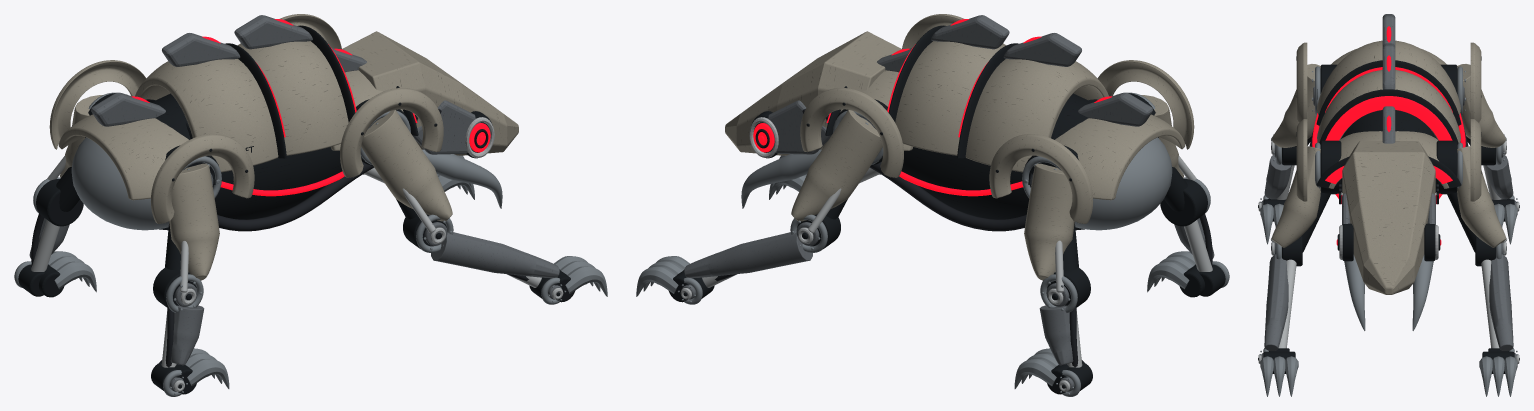
The model's file is crawler.glb.
3 views of the same model, side by side, from view 1: azimuth 30°, elevation 25°; view 2: azimuth 150°, elevation 25°; view 3: azimuth 270°, elevation 25° (orthographic). The views are drawn at different scales.
Parts seen in each view (by area): view 1: RIFT_Crawler_V2.001_CONCEPT2_ceramic.002, RIFT_Crawler_V2.001_CONCEPT2_dark.002, PredatorSkull.001_CONCEPT2_ceramic.002, RIFT_Crawler_V2.001_CONCEPT2_armor.002, Front_near.002_CONCEPT2_ceramic.002, RIFT_Crawler_V2.001_CONCEPT2_steel.002, Rear_near.002_CONCEPT2_ceramic.002, Shin.001_CONCEPT2_armor.002, RIFT_Crawler_V2.001_CONCEPT2_rubber.002, Shin_CONCEPT2_armor.002, PredatorSkull.001_CONCEPT2_steel.002, PredatorSkull.001_CONCEPT2_armor.002 (+13 smaller); view 2: RIFT_Crawler_V2.001_CONCEPT2_ceramic.002, RIFT_Crawler_V2.001_CONCEPT2_dark.002, PredatorSkull.001_CONCEPT2_ceramic.002, RIFT_Crawler_V2.001_CONCEPT2_armor.002, Front_far.002_CONCEPT2_ceramic.002, RIFT_Crawler_V2.001_CONCEPT2_steel.002, Rear_far.002_CONCEPT2_ceramic.002, Shin.003_CONCEPT2_armor.002, RIFT_Crawler_V2.001_CONCEPT2_rubber.002, Shin.002_CONCEPT2_armor.002, PredatorSkull.001_CONCEPT2_steel.002, PredatorSkull.001_CONCEPT2_armor.002 (+13 smaller); view 3: PredatorSkull.001_CONCEPT2_ceramic.002, RIFT_Crawler_V2.001_CONCEPT2_ceramic.002, RIFT_Crawler_V2.001_CONCEPT2_dark.002, RIFT_Crawler_V2.001_CONCEPT2_red.002, Front_far.002_CONCEPT2_ceramic.002, Front_near.002_CONCEPT2_ceramic.002, Shin.003_CONCEPT2_armor.002, Shin.001_CONCEPT2_armor.002, PredatorSkull.001_CONCEPT2_steel.002, RIFT_Crawler_V2.001_CONCEPT2_armor.002, Rear_far.002_CONCEPT2_ceramic.002, Rear_near.002_CONCEPT2_ceramic.002 (+23 smaller).
Boxes of the visible parts, x1,y1,x2,y2 form: RIFT_Crawler_V2.001_CONCEPT2_ceramic.002: [49, 14, 443, 223]; RIFT_Crawler_V2.001_CONCEPT2_dark.002: [146, 25, 437, 230]; PredatorSkull.001_CONCEPT2_ceramic.002: [342, 31, 518, 155]; RIFT_Crawler_V2.001_CONCEPT2_armor.002: [91, 15, 366, 126]; Front_near.002_CONCEPT2_ceramic.002: [361, 110, 452, 221]; RIFT_Crawler_V2.001_CONCEPT2_steel.002: [71, 137, 168, 230]; Rear_near.002_CONCEPT2_ceramic.002: [169, 163, 219, 280]; Shin.001_CONCEPT2_armor.002: [424, 222, 559, 278]; RIFT_Crawler_V2.001_CONCEPT2_rubber.002: [217, 162, 374, 231]; Shin_CONCEPT2_armor.002: [170, 283, 204, 365]; PredatorSkull.001_CONCEPT2_steel.002: [422, 149, 502, 208]; PredatorSkull.001_CONCEPT2_armor.002: [412, 100, 480, 154]; RIFT_Crawler_V2.001_CONCEPT2_ceramic.002: [800, 14, 1194, 223]; RIFT_Crawler_V2.001_CONCEPT2_dark.002: [806, 25, 1097, 230]; PredatorSkull.001_CONCEPT2_ceramic.002: [725, 31, 901, 155]; RIFT_Crawler_V2.001_CONCEPT2_armor.002: [877, 15, 1152, 126]; Front_far.002_CONCEPT2_ceramic.002: [791, 110, 882, 221]; RIFT_Crawler_V2.001_CONCEPT2_steel.002: [1075, 137, 1172, 230]; Rear_far.002_CONCEPT2_ceramic.002: [1024, 163, 1074, 280]; Shin.003_CONCEPT2_armor.002: [684, 222, 819, 278]; RIFT_Crawler_V2.001_CONCEPT2_rubber.002: [869, 162, 1026, 231]; Shin.002_CONCEPT2_armor.002: [1039, 283, 1073, 365]; PredatorSkull.001_CONCEPT2_steel.002: [741, 149, 821, 208]; PredatorSkull.001_CONCEPT2_armor.002: [763, 100, 831, 154]; PredatorSkull.001_CONCEPT2_ceramic.002: [1342, 141, 1435, 294]; RIFT_Crawler_V2.001_CONCEPT2_ceramic.002: [1296, 40, 1481, 201]; RIFT_Crawler_V2.001_CONCEPT2_dark.002: [1296, 56, 1481, 192]; RIFT_Crawler_V2.001_CONCEPT2_red.002: [1312, 26, 1465, 203]; Front_far.002_CONCEPT2_ceramic.002: [1457, 146, 1506, 247]; Front_near.002_CONCEPT2_ceramic.002: [1271, 146, 1320, 247]; Shin.003_CONCEPT2_armor.002: [1489, 242, 1513, 350]; Shin.001_CONCEPT2_armor.002: [1264, 242, 1288, 350]; PredatorSkull.001_CONCEPT2_steel.002: [1344, 255, 1433, 330]; RIFT_Crawler_V2.001_CONCEPT2_armor.002: [1382, 14, 1395, 143]; Rear_far.002_CONCEPT2_ceramic.002: [1457, 64, 1505, 147]; Rear_near.002_CONCEPT2_ceramic.002: [1272, 64, 1320, 147].
Bounding box in the file's own units: 1.34 × 0.828 × 0.813.
Materials: 7 (3 with a texture image).
